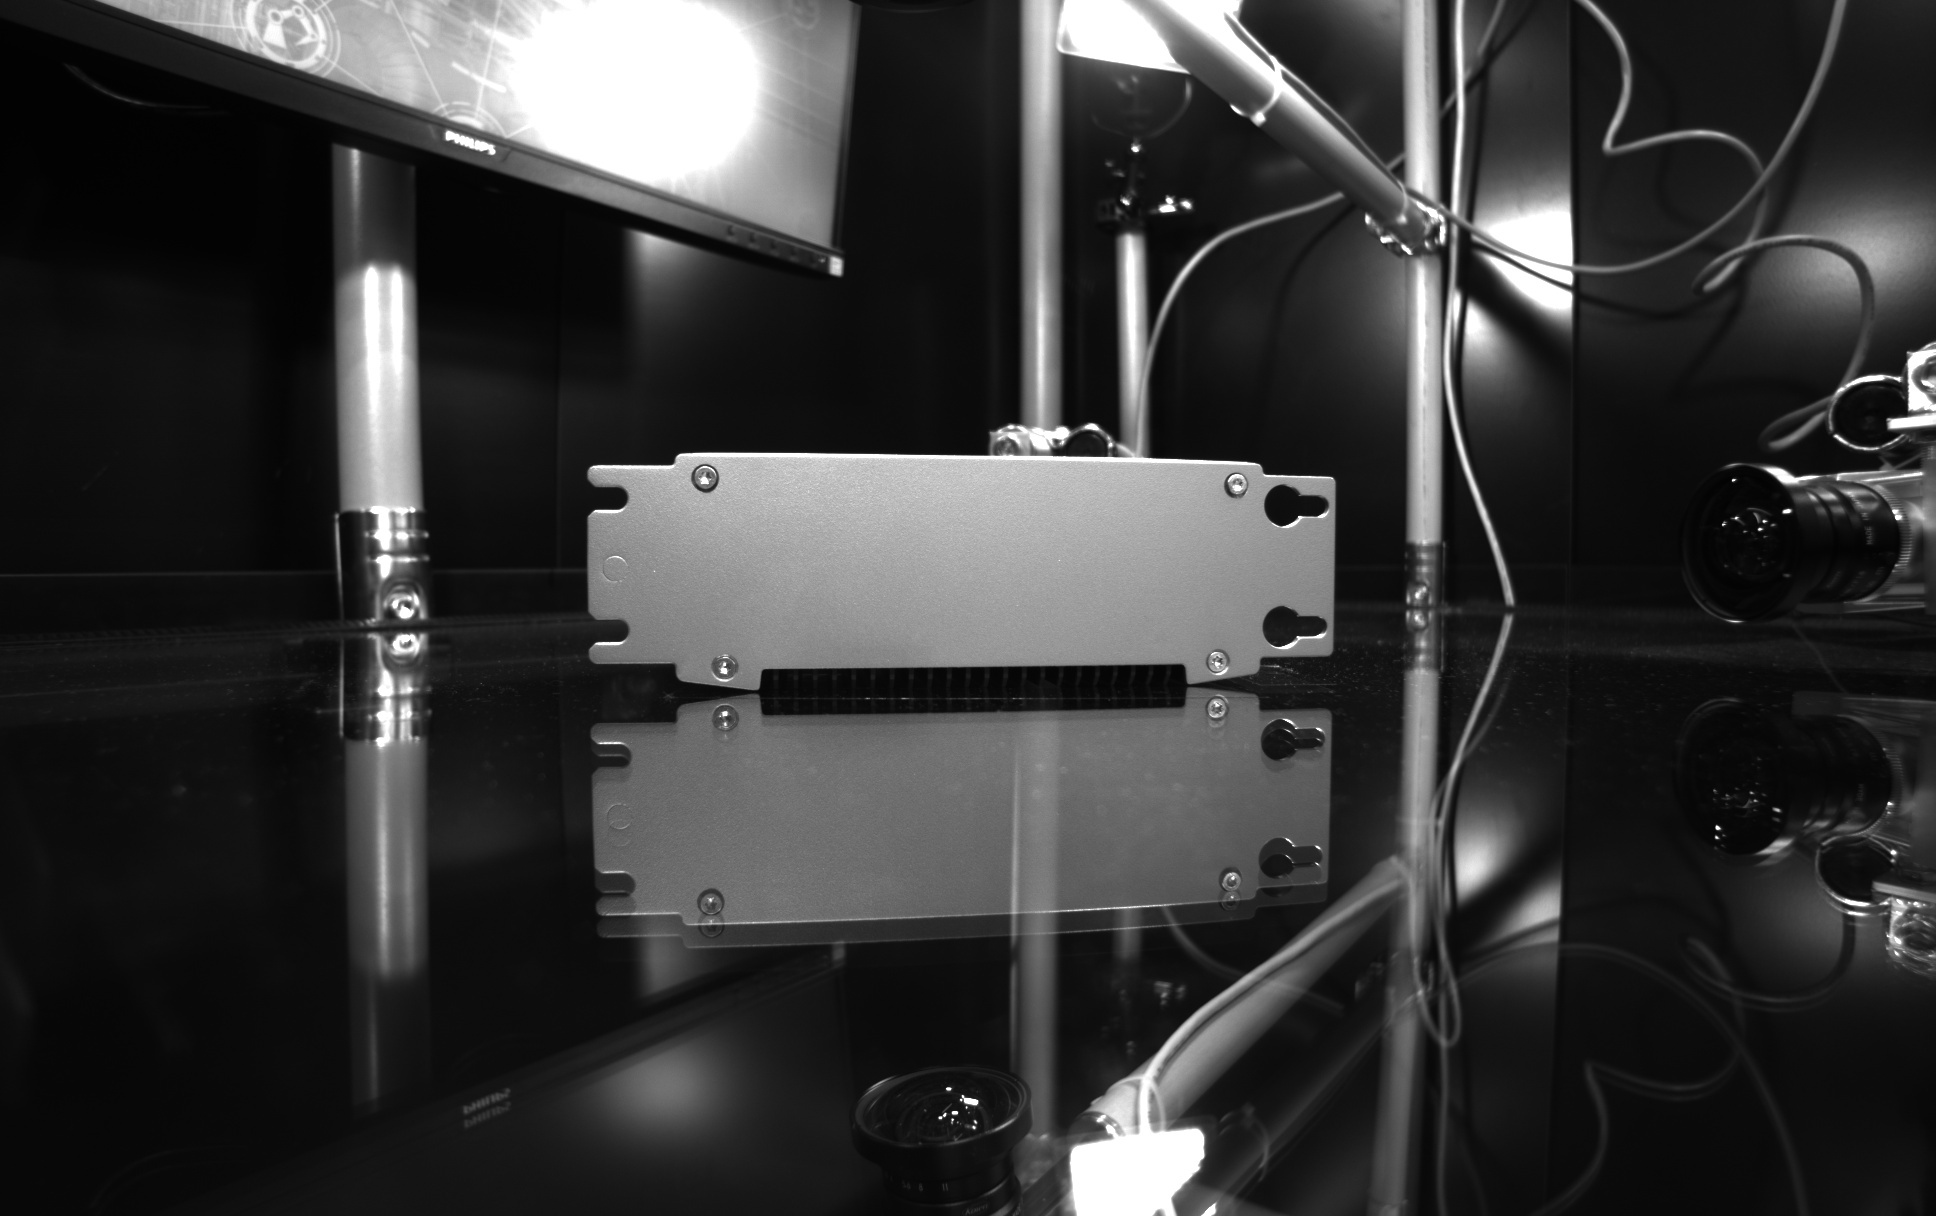CamBack: (560, 436, 1360, 685)
Schraube: (1196, 643, 1234, 684), (705, 647, 742, 684)
Schraube_gespiegelt: (1213, 857, 1252, 925), (1198, 692, 1237, 758), (705, 698, 744, 764), (691, 881, 728, 947)
Schraube_halb: (686, 458, 726, 497), (1217, 467, 1255, 504)
